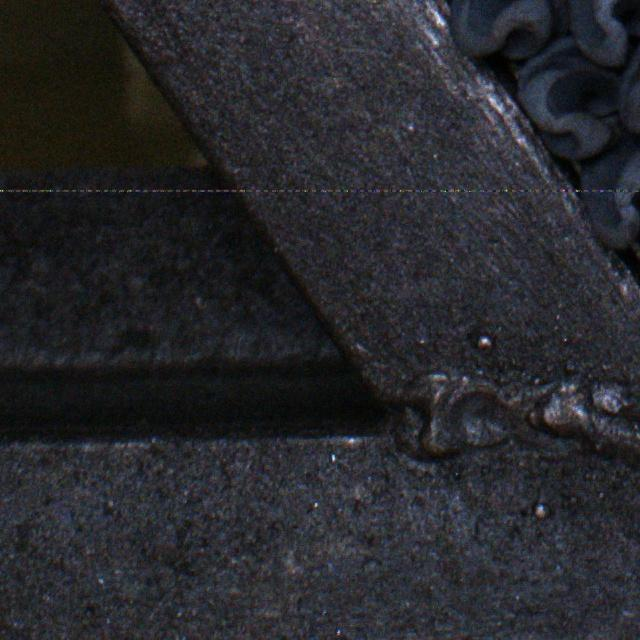tool_b: (515, 36, 621, 160), (452, 0, 573, 60), (580, 149, 640, 256), (569, 0, 640, 64), (617, 34, 640, 148)
